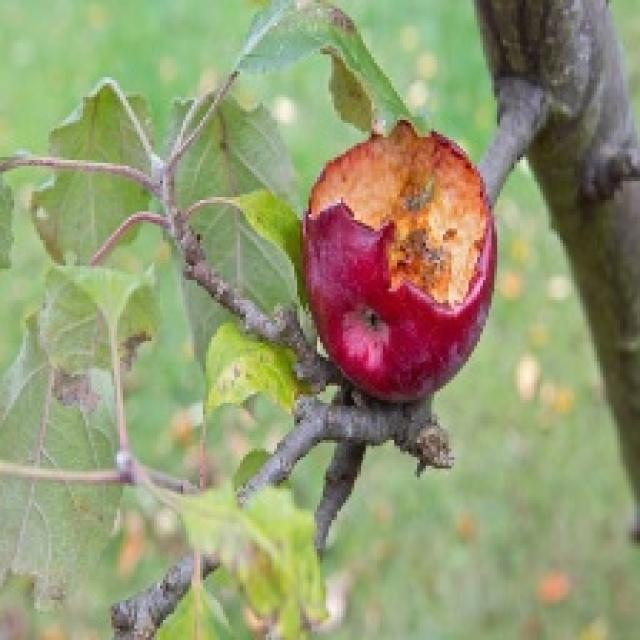rotten_apple: (310, 127, 492, 396)
